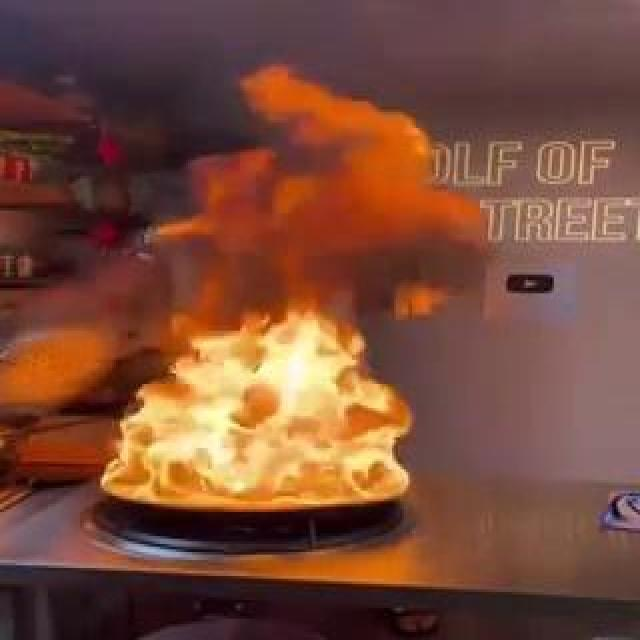Fire: (72, 159, 430, 516)
